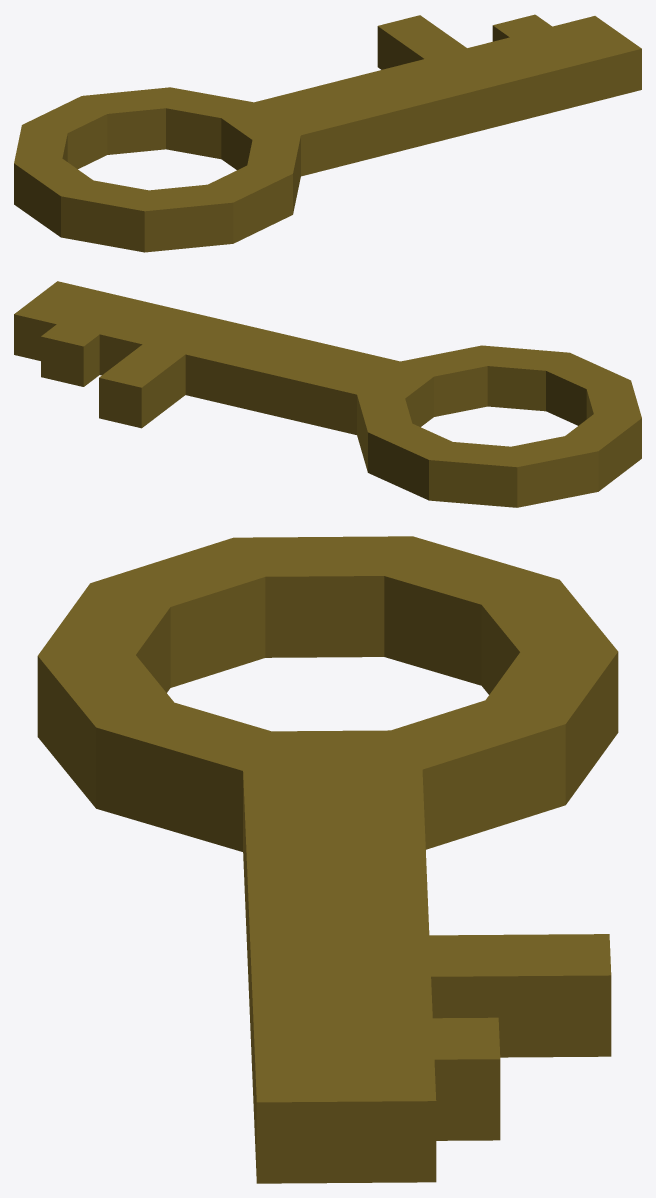
File: key03.obj
The picture shows the model from 3 angles, top to bottom: view 1: azimuth 30°, elevation 25°; view 2: azimuth 150°, elevation 25°; view 3: azimuth 270°, elevation 25°; orthographic projection. The views are drawn at different scales.
Visible parts, largest first — view 1: Cylinder; view 2: Cylinder; view 3: Cylinder.
Boxes of the visible parts, left/top/right/bottom form: Cylinder: left=14, top=14, right=641, bottom=252; Cylinder: left=14, top=281, right=641, bottom=507; Cylinder: left=37, top=536, right=618, bottom=1183.
Bounding box in the file's own units: 0.1228 × 0.00822 × 0.0532.
